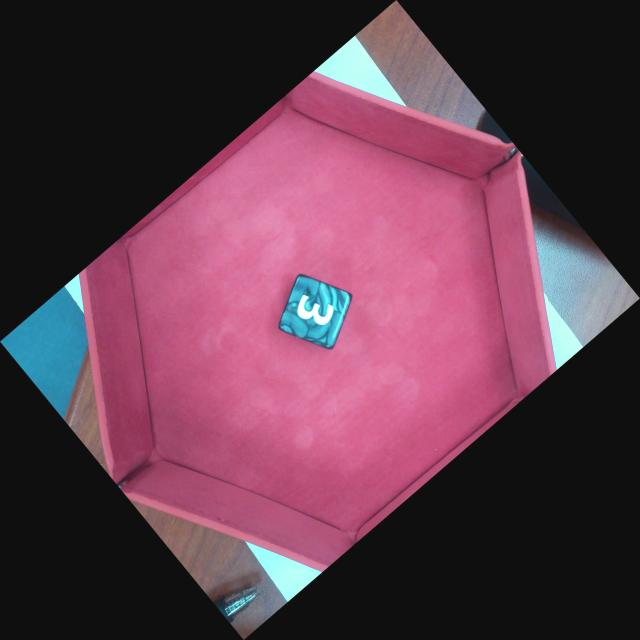dice: (284, 270, 352, 351)
